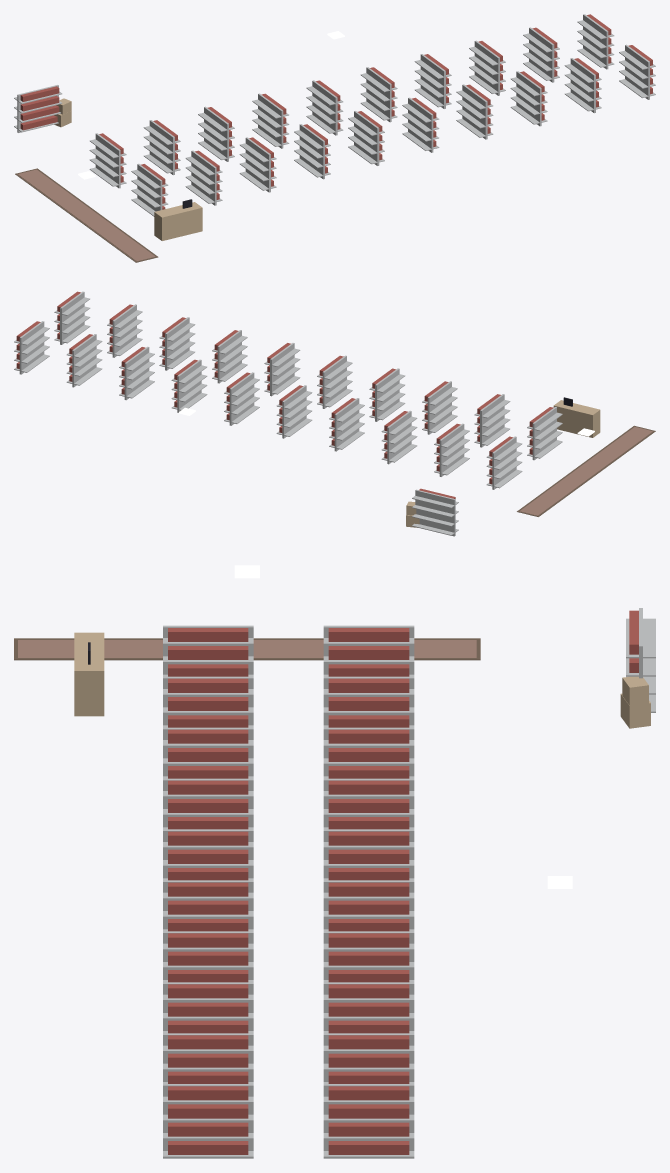
File: fine-s0.glb
3 renders of one model, top to bottom at view 1: azimuth 30°, elevation 25°; view 2: azimuth 150°, elevation 25°; view 3: azimuth 270°, elevation 25°, orthographic. The views are drawn at different scales.
Visible parts, largest first — view 1: soft-s0, shelving.000, shop-counter.000, shelf.000, shelf.005, shelf.008, shelf.015, shelf.018, shelf.003, shelf.010, shelf.011, shelf.013 (+11 smaller); view 2: soft-s0, shelving.000, shelf.018, shelf.006, shelf.010, shelf.002, shelf.014, shelf.000, shelf.003, shelf.005, shelf.011, shelf.007 (+11 smaller); view 3: shelf.018, shelf.019, soft-s0, shelf.000, shelf.002, shelf.004, shelf.008, shelf.010, shelf.012, shelf.014, shelf.006, shelf.001 (+12 smaller).
Boxes of the visible parts, left/top/right/bottom form: soft-s0: left=15, top=168, right=158, bottom=262; shelving.000: left=14, top=85, right=62, bottom=132; shop-counter.000: left=154, top=199, right=202, bottom=240; shelf.000: left=89, top=133, right=126, bottom=188; shelf.005: left=239, top=137, right=276, bottom=192; shelf.008: left=306, top=80, right=343, bottom=135; shelf.015: left=510, top=71, right=547, bottom=126; shelf.018: left=577, top=14, right=614, bottom=69; shelf.003: left=185, top=150, right=222, bottom=205; shelf.010: left=360, top=67, right=397, bottom=122; shelf.011: left=402, top=97, right=439, bottom=152; shelf.013: left=456, top=84, right=493, bottom=139; soft-s0: left=517, top=425, right=655, bottom=516; shelving.000: left=412, top=488, right=458, bottom=536; shelf.018: left=14, top=321, right=49, bottom=374; shelf.006: left=329, top=398, right=364, bottom=451; shelf.010: left=224, top=372, right=259, bottom=425; shelf.002: left=434, top=423, right=469, bottom=476; shelf.014: left=119, top=346, right=154, bottom=400; shelf.000: left=486, top=436, right=522, bottom=489; shelf.003: left=474, top=394, right=510, bottom=447; shelf.005: left=422, top=381, right=457, bottom=434; shelf.011: left=264, top=343, right=300, bottom=396; shelf.007: left=369, top=368, right=405, bottom=421; shelf.018: left=323, top=1084, right=414, bottom=1158; shelf.019: left=163, top=1084, right=253, bottom=1158; soft-s0: left=14, top=638, right=480, bottom=660; shelf.000: left=323, top=625, right=414, bottom=676; shelf.002: left=323, top=676, right=414, bottom=727; shelf.004: left=323, top=727, right=414, bottom=778; shelf.008: left=323, top=829, right=414, bottom=880; shelf.010: left=323, top=880, right=414, bottom=931; shelf.012: left=323, top=931, right=414, bottom=982; shelf.014: left=323, top=982, right=414, bottom=1033; shelf.006: left=323, top=778, right=414, bottom=829; shelf.001: left=163, top=625, right=253, bottom=676.
Bounding box in the file's own units: 24.75 × 1.74 × 12.79.
